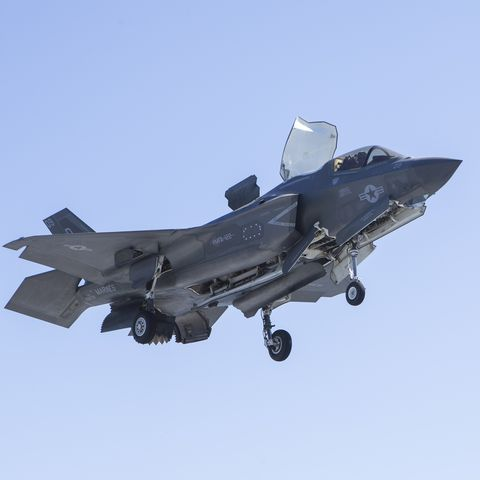F-35 Lightning: (4, 116, 468, 373)
